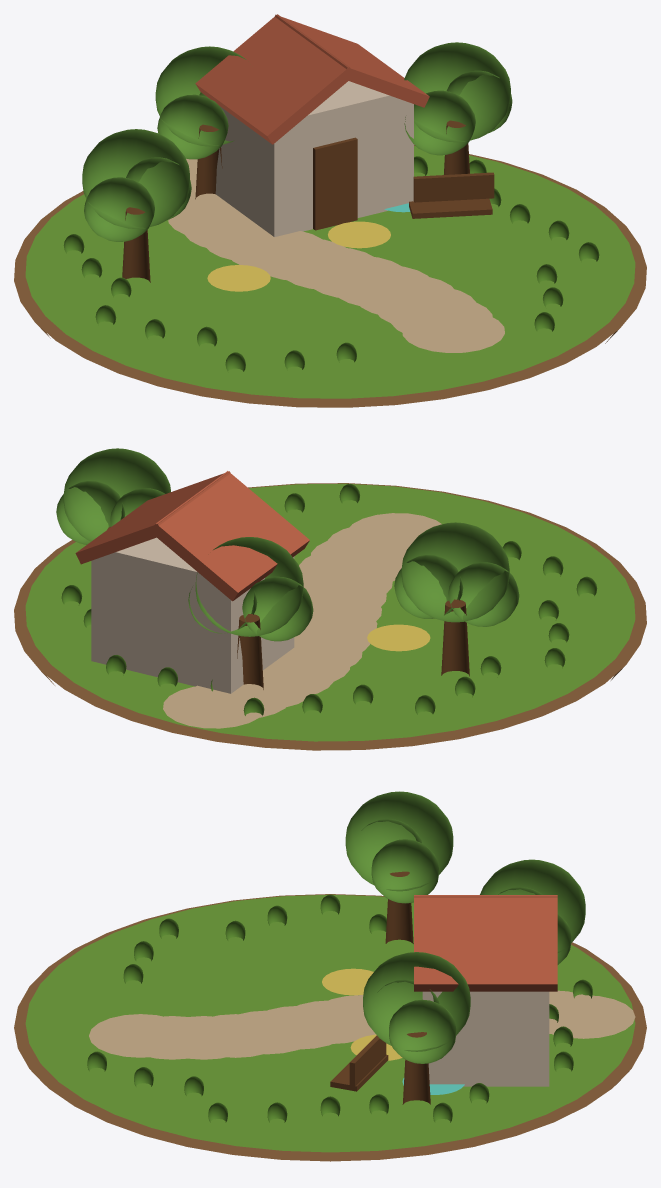
Rendered from scene1_campus_clay.glb.
3 views of the same model, one above another, from view 1: azimuth 30°, elevation 25°; view 2: azimuth 150°, elevation 25°; view 3: azimuth 270°, elevation 25° (orthographic).
Parts seen in each view (by area): view 1: ClayAsset; view 2: ClayAsset; view 3: ClayAsset.
Boxes of the visible parts, x1,y1,x2,y2 form: ClayAsset: (14,14,646,407); ClayAsset: (14,448,646,750); ClayAsset: (14,791,646,1161).
Bounding box in the file's own units: 11 × 3.47 × 11.
